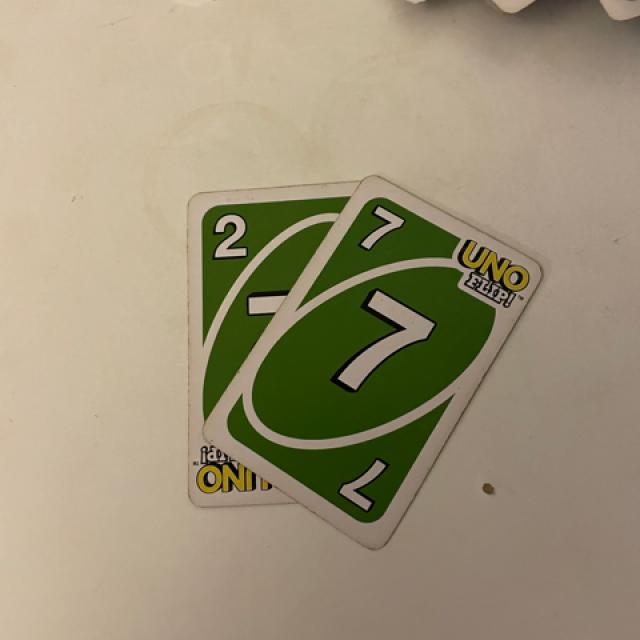lgreen-2: (198, 202, 258, 272)
lgreen-7: (355, 200, 410, 272)
